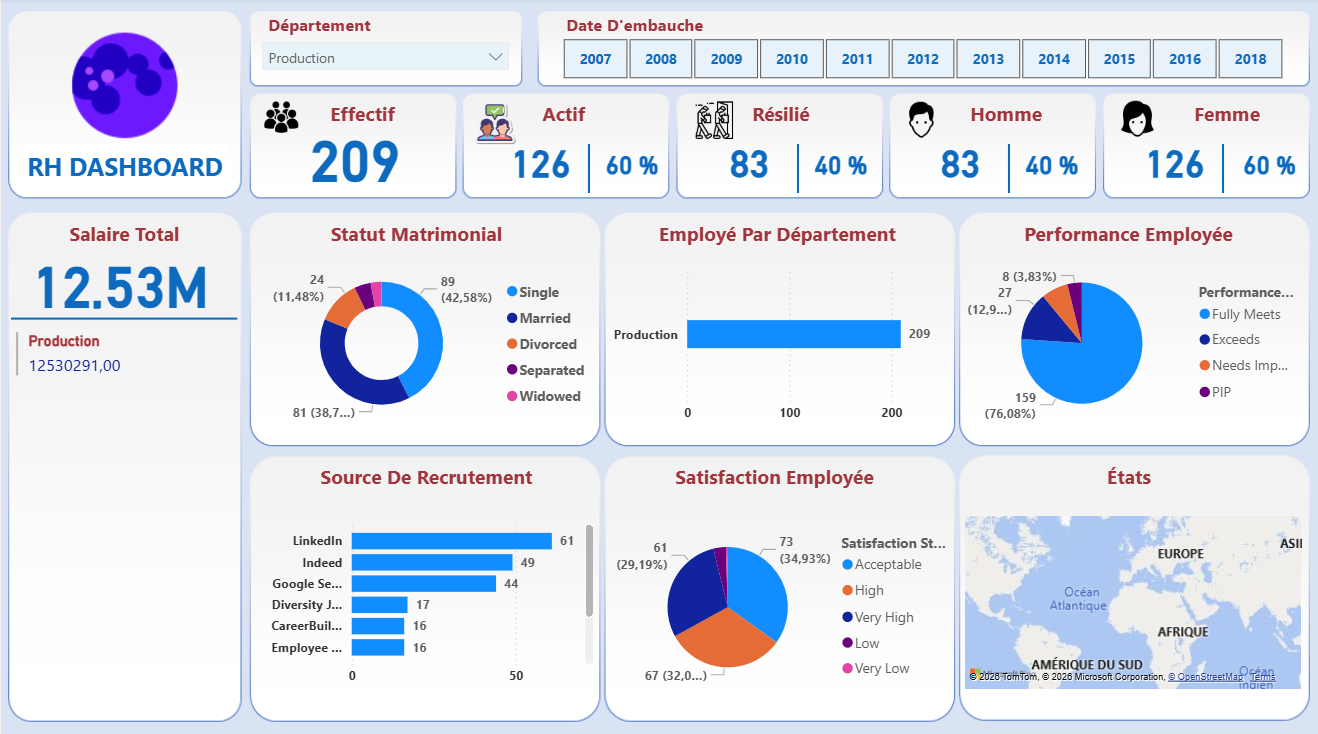

Layout of this report page (visuals, bound fields, positions):
{"tool":"powerbi","page":{"name":"RH DASHBOARD","canvas":[1280,720],"ordinal":0},"visuals":[{"type":"image","box":[37,18.5,165.3,133.3],"z":0},{"type":"card","fields":{"Values":["All measures.Active"]},"box":[479.5,132.3,88.5,52.5],"z":0,"group":"g1"},{"type":"card","fields":{"Values":["All measures.Terminated"]},"box":[682.8,132.3,88.5,52.5],"z":0,"group":"g2"},{"type":"card","fields":{"Values":["All measures.Male"]},"box":[888,132.3,88.5,52.5],"z":0,"group":"g3"},{"type":"card","fields":{"Values":["All measures.Female"]},"box":[1096.2,132.3,88.5,52.5],"z":0,"group":"g4"},{"type":"textbox","box":[19.5,142,200.4,42.8],"z":1000},{"type":"shape","box":[560.2,142,21.4,47.7],"z":1000,"group":"g1"},{"type":"shape","box":[763.5,142,21.4,47.7],"z":1000,"group":"g2"},{"type":"shape","box":[968.7,142,21.4,47.7],"z":1000,"group":"g3"},{"type":"shape","box":[1176.9,142,21.4,47.7],"z":1000,"group":"g4"},{"type":"card","fields":{"Values":["All measures.Active %"]},"box":[581.6,140.1,62.2,42.8],"z":2000,"group":"g1"},{"type":"card","fields":{"Values":["All measures.Terminated %"]},"box":[784.9,140.1,62.2,42.8],"z":2000,"group":"g2"},{"type":"card","fields":{"Values":["All measures.Male %"]},"box":[990.1,140.1,62.2,42.8],"z":2000,"group":"g3"},{"type":"card","fields":{"Values":["All measures.Female %"]},"box":[1198.2,140.8,69.1,41.8],"z":2000,"group":"g4"},{"type":"shape","box":[9,288.1,220.3,47.9],"z":2000},{"type":"slicer","fields":{"Values":["HRData.Department"]},"box":[243.2,33.1,259.7,44.7],"z":3000},{"type":"slicer","fields":{"Values":["HRData.Hiring Year"]},"box":[520.4,33.1,748.9,51.6],"z":4000},{"type":"textbox","box":[253.9,9.7,119.6,38.9],"z":5000},{"type":"textbox","box":[543.7,9.7,235.4,31.1],"z":6000},{"type":"textbox","box":[314.2,94.3,99.2,35],"z":7000},{"type":"image","box":[243.2,94.3,56.4,42.8],"z":8000},{"type":"textbox","box":[520.4,94.3,80.7,35],"z":9000},{"type":"image","box":[447.4,94.3,64.2,54.5],"z":10000},{"type":"textbox","box":[724.6,94.3,80.7,35],"z":11000},{"type":"image","box":[661.4,94.3,63.2,48.6],"z":12000},{"type":"textbox","box":[936.7,94.3,80.7,35],"z":13000},{"type":"textbox","box":[1154.5,94.3,80.7,35],"z":14000},{"type":"image","box":[862.7,94.3,63.2,47.7],"z":15000},{"type":"image","box":[1072.8,93.4,63.2,47.7],"z":16000},{"type":"textbox","box":[314.2,211.1,178,38.9],"z":17000},{"type":"textbox","box":[627.4,211.1,253.9,38.9],"z":18000},{"type":"textbox","box":[977.5,211.1,236.4,38.9],"z":19000},{"type":"textbox","box":[286,447.4,253.9,38.9],"z":20000},{"type":"textbox","box":[640,447.4,222.7,38.9],"z":21000},{"type":"textbox","box":[1052.4,447.4,87.5,38.9],"z":22000},{"type":"textbox","box":[50.6,211.1,137.1,38.9],"z":23000},{"type":"card","fields":{"Values":["All measures.Headcount"]},"box":[283,118.7,120.6,66.1],"z":24000},{"type":"group","id":"g1","title":"Groupe 1","box":[479.5,132.3,164.4,57.4],"z":25000},{"type":"group","id":"g2","title":"Groupe 1","box":[682.8,132.3,164.4,57.4],"z":26000},{"type":"group","id":"g3","title":"Groupe 1","box":[888,132.3,164.4,57.4],"z":27000},{"type":"group","id":"g4","title":"Groupe 1","box":[1096.2,132.3,171,57.4],"z":28000},{"type":"donutChart","fields":{"Y":["All measures.Headcount"],"Category":["HRData.MaritalStatus"]},"box":[243.2,250.2,337.9,171.5],"z":29000},{"type":"clusteredBarChart","fields":{"Category":["HRData.Department"],"Y":["All measures.Headcount"]},"box":[588.2,250.2,336.9,171.5],"z":30000},{"type":"pieChart","fields":{"Y":["All measures.Headcount"],"Category":["HRData.PerformanceScore"]},"box":[932.1,250.2,335,171.5],"z":31000},{"type":"clusteredBarChart","fields":{"Y":["All measures.Headcount"],"Category":["HRData.RecruitmentSource"]},"box":[243.2,499.4,336.9,178.4],"z":32000},{"type":"pieChart","fields":{"Y":["All measures.Headcount"],"Category":["HRData.Satisfaction Status"]},"box":[590.2,506.4,335,171.5],"z":33000},{"type":"map","fields":{"Series":["HRData.State"],"Size":["All measures.Headcount"]},"box":[932.1,499.4,336.9,178.4],"z":34000},{"type":"card","fields":{"Values":["All measures.Total Salary"]},"box":[10,241.2,210.3,65.8],"z":35000},{"type":"multiRowCard","fields":{"Values":["All measures.Total Salary","HRData.Department"]},"box":[9,320,220.3,382.8],"z":36000}]}

Visuals, with their boxes in screenshot pixels (x1, y1, x2, y2), scaled from the page's 1280x720 canvas onto the 1318x734 screenshot:
image: 38 19 208 155
card - All measures.Active: 494 135 585 188
card - All measures.Terminated: 703 135 794 188
card - All measures.Male: 914 135 1005 188
card - All measures.Female: 1129 135 1220 188
textbox: 20 145 226 188
shape: 577 145 599 193
shape: 786 145 808 193
shape: 997 145 1019 193
shape: 1212 145 1234 193
card - All measures.Active %: 599 143 663 186
card - All measures.Terminated %: 808 143 872 186
card - All measures.Male %: 1019 143 1084 186
card - All measures.Female %: 1234 144 1305 186
shape: 9 294 236 343
slicer - HRData.Department: 250 34 518 79
slicer - HRData.Hiring Year: 536 34 1307 86
textbox: 261 10 385 50
textbox: 560 10 802 42
textbox: 324 96 426 132
image: 250 96 308 140
textbox: 536 96 619 132
image: 461 96 527 152
textbox: 746 96 829 132
image: 681 96 746 146
textbox: 965 96 1048 132
textbox: 1189 96 1272 132
image: 888 96 953 145
image: 1105 95 1170 144
textbox: 324 215 507 255
textbox: 646 215 907 255
textbox: 1007 215 1250 255
textbox: 294 456 556 496
textbox: 659 456 888 496
textbox: 1084 456 1174 496
textbox: 52 215 193 255
card - All measures.Headcount: 291 121 416 188
"Groupe 1" group: 494 135 663 193
"Groupe 1" group: 703 135 872 193
"Groupe 1" group: 914 135 1084 193
"Groupe 1" group: 1129 135 1305 193
donutChart - All measures.Headcount x HRData.MaritalStatus: 250 255 598 430
clusteredBarChart - HRData.Department x All measures.Headcount: 606 255 953 430
pieChart - All measures.Headcount x HRData.PerformanceScore: 960 255 1305 430
clusteredBarChart - All measures.Headcount x HRData.RecruitmentSource: 250 509 597 691
pieChart - All measures.Headcount x HRData.Satisfaction Status: 608 516 953 691
map - HRData.State x All measures.Headcount: 960 509 1307 691
card - All measures.Total Salary: 10 246 227 313
multiRowCard - All measures.Total Salary x HRData.Department: 9 326 236 716
